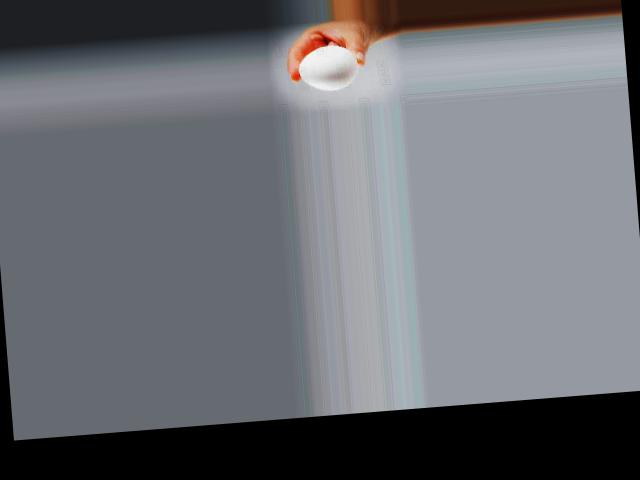egg: (296, 43, 358, 92)
